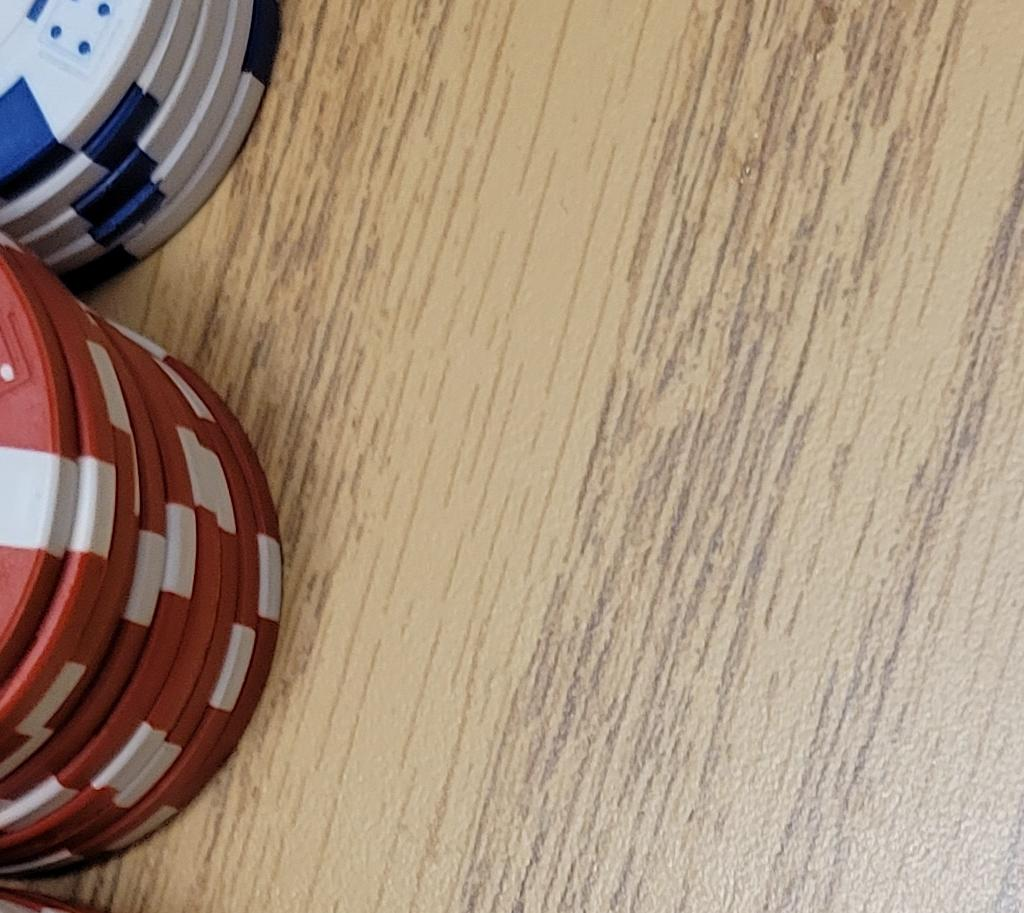Chip: (1, 134, 428, 913)
